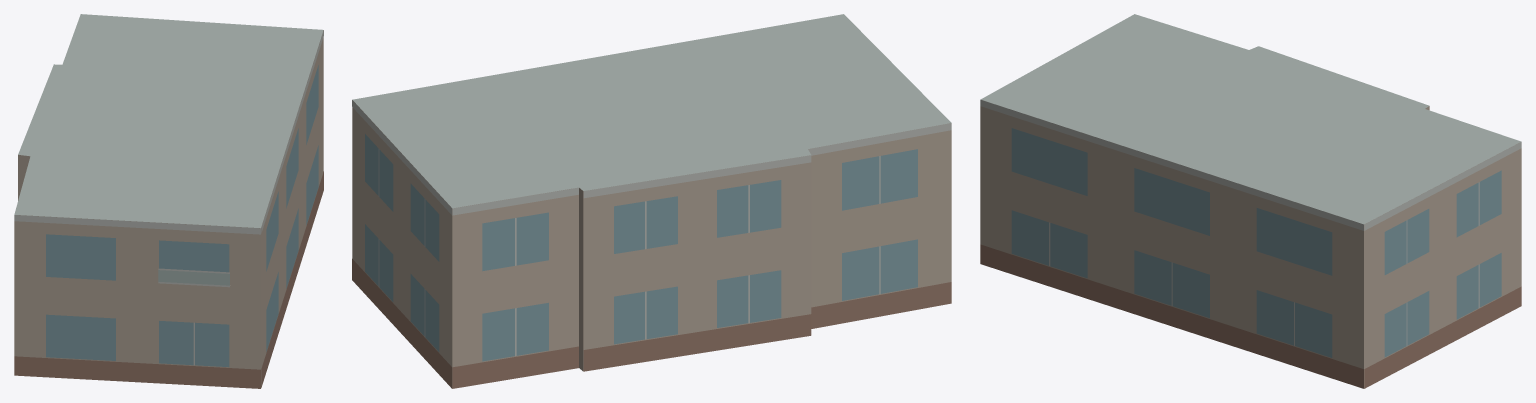
Rendered from survey-upis-32848723.glb.
3 views of the same model, side by side, from view 1: azimuth 30°, elevation 25°; view 2: azimuth 150°, elevation 25°; view 3: azimuth 270°, elevation 25° (orthographic). The views are drawn at different scales.
Parts seen in each view (by area): view 1: survey-upis-32848723.tmp; view 2: survey-upis-32848723.tmp; view 3: survey-upis-32848723.tmp.
Part boxes in pixels (<box>): survey-upis-32848723.tmp: <box>14,14,323,388</box>; survey-upis-32848723.tmp: <box>352,14,951,388</box>; survey-upis-32848723.tmp: <box>980,14,1521,388</box>.
Bounding box in the file's own units: 16.75 × 6.1 × 18.2.
